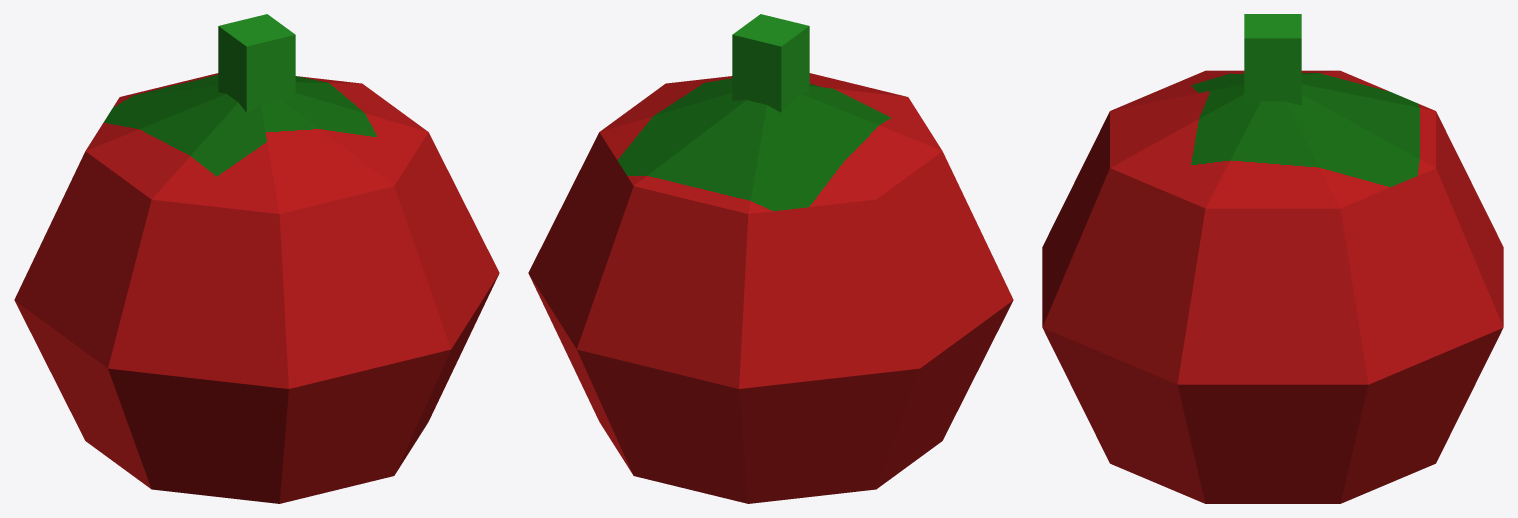
Rendered from tomato.gltf.
The picture shows the model from 3 angles, left to right: view 1: azimuth 30°, elevation 25°; view 2: azimuth 150°, elevation 25°; view 3: azimuth 270°, elevation 25°; orthographic projection.
Visible parts, largest first — view 1: cuboid-col; view 2: cuboid-col; view 3: cuboid-col.
Part boxes in pixels (x1,y1,x2,y2): cuboid-col: [14, 14, 499, 503]; cuboid-col: [528, 14, 1013, 503]; cuboid-col: [1042, 14, 1503, 503].
Size of the model in its own units: 0.125 by 0.1406 by 0.125.
1 material, 1 textured.
